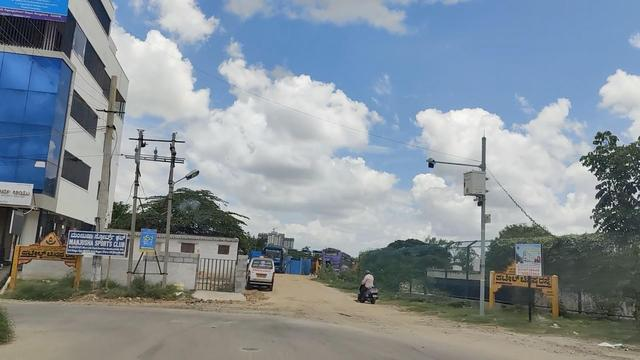LMV: (355, 262, 379, 304), (250, 258, 273, 285)
